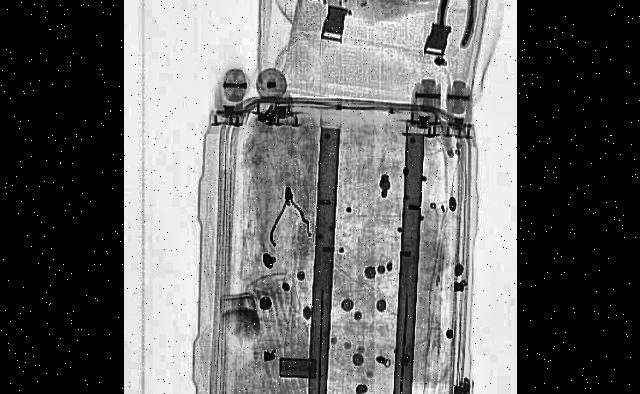Pliers: (432, 0, 489, 57)
